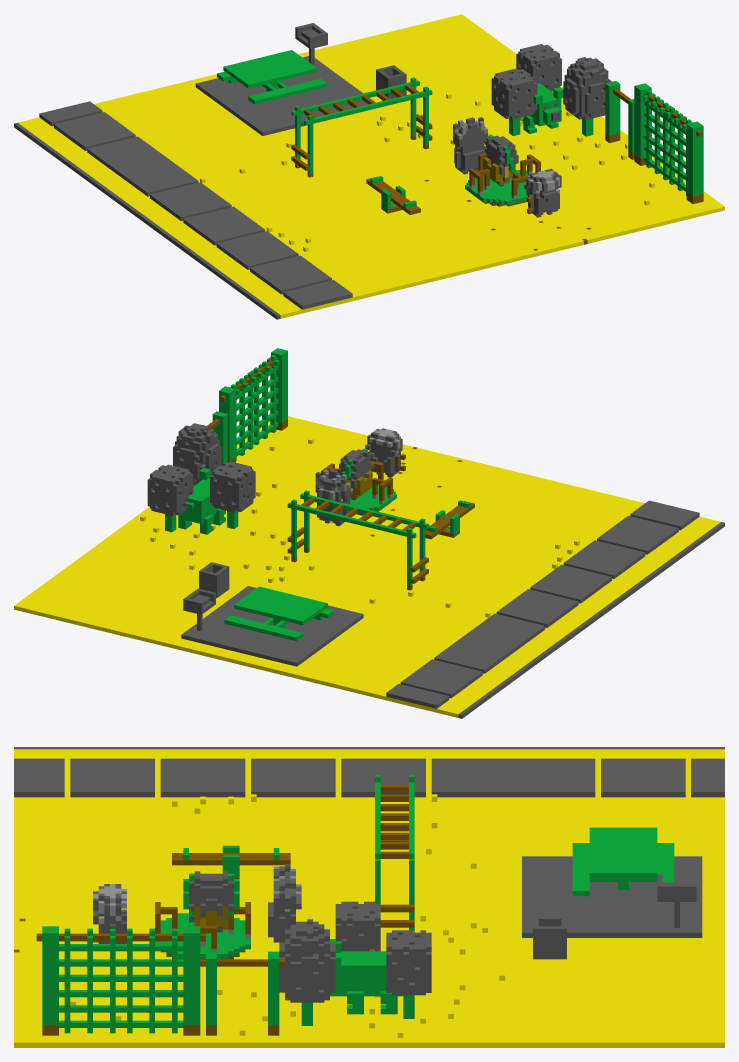
Rendered from scene_park4.obj.
The picture shows the model from 3 angles, top to bottom: view 1: azimuth 30°, elevation 25°; view 2: azimuth 150°, elevation 25°; view 3: azimuth 270°, elevation 25°; orthographic projection. The views are drawn at different scales.
Bounding box in the file's own units: 124 × 21 × 126.
